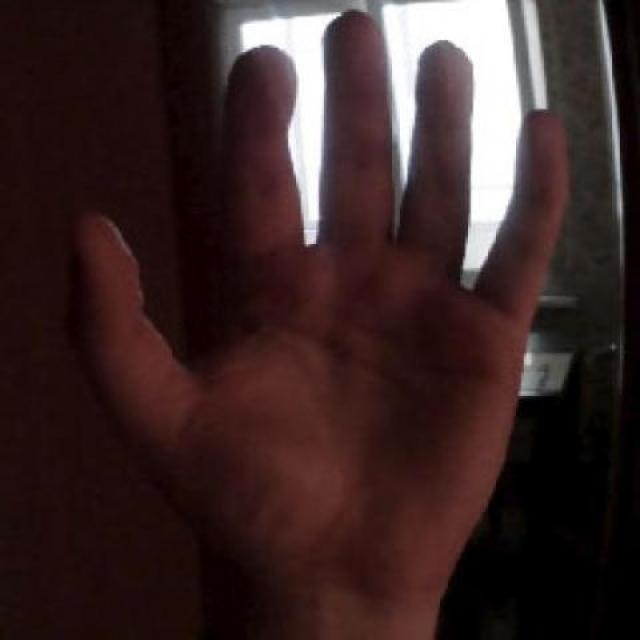Open Hand: (72, 6, 572, 640)
